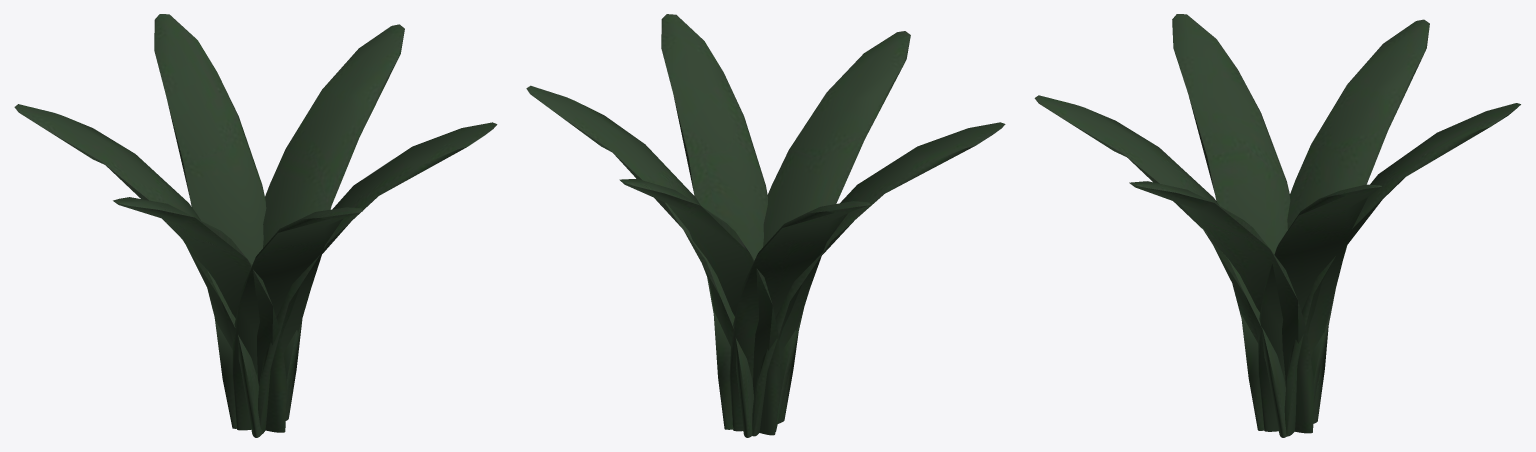
File: grass2.fbx
3 views of the same model, side by side, from view 1: azimuth 30°, elevation 25°; view 2: azimuth 150°, elevation 25°; view 3: azimuth 270°, elevation 25° (orthographic).
Parts seen in each view (by area): view 1: grass2_1; view 2: grass2_1; view 3: grass2_1.
Part boxes in pixels (bbox=[...]): grass2_1: bbox=[14, 14, 497, 437]; grass2_1: bbox=[526, 14, 1005, 437]; grass2_1: bbox=[1034, 14, 1520, 437].
Bounding box in the file's own units: 408 × 332 × 444.
1 material, 1 textured.
